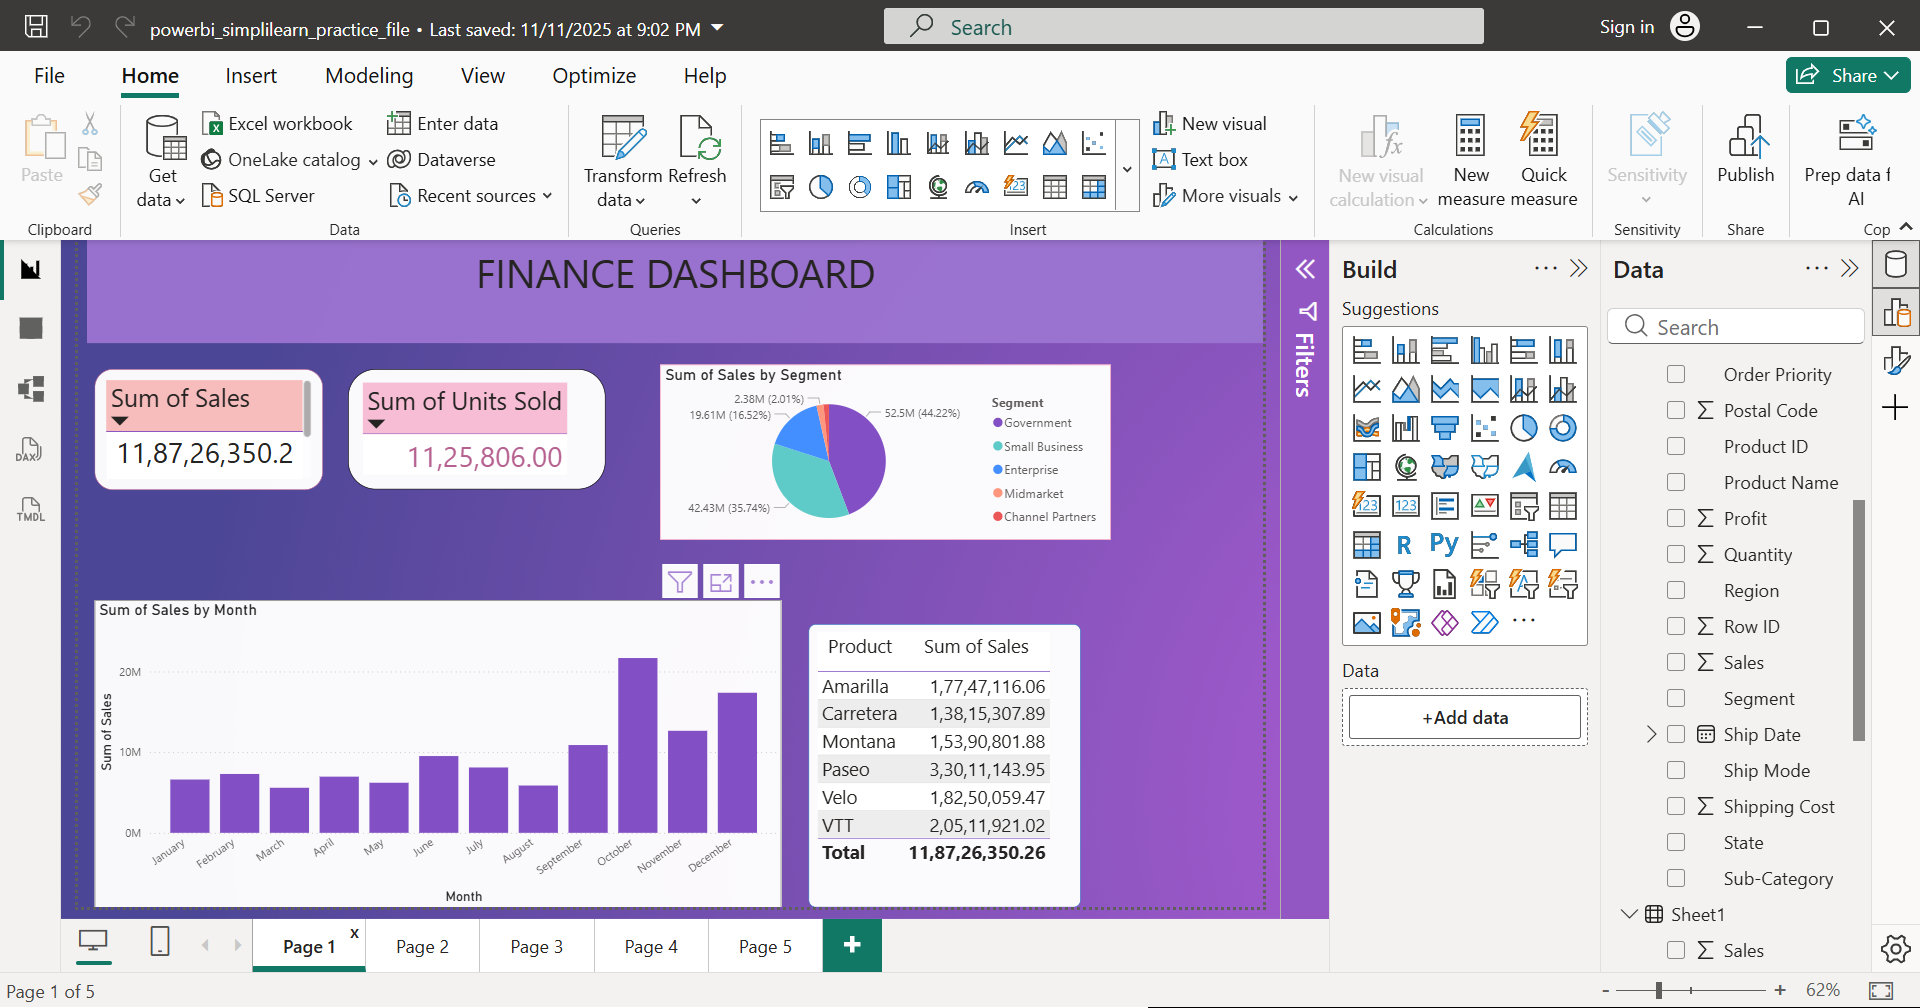

This screenshot's page, from the dashboard's own definition file:
{"tool":"powerbi","page":{"name":"Page 1","canvas":[1280,720],"ordinal":0},"visuals":[{"type":"textbox","box":[9.9,0,1270.8,111.2],"z":0},{"type":"tableEx","fields":{"Values":["Sum(Sheet1. Sales)"]},"box":[17.5,140,246.5,130.4],"z":1000},{"type":"tableEx","fields":{"Values":["Sum(Sheet1.Units Sold)"]},"box":[292,140,278,130],"z":2000},{"type":"clusteredColumnChart","fields":{"Y":["Sum(Sheet1. Sales)"],"Category":["Sheet1.Date.Variation.Date Hierarchy.Month"]},"box":[18,388,742,332],"z":3000},{"type":"pieChart","fields":{"Category":["Sheet1.Segment"],"Y":["Sum(Sheet1. Sales)"]},"box":[628.3,135.2,486.7,189.3],"z":4000},{"type":"tableEx","fields":{"Values":["Sheet1.Product","Sum(Sheet1. Sales)"]},"box":[788,414,294,306],"z":5000}]}

Visuals, with their boxes on the page's 1280x720 design canvas (x1, y1, x2, y2). These are canvas units, not pixel positions in the 1920x1008 screenshot, which may show the page scaled, cropped or inside an application window:
textbox: (x1=10, y1=0, x2=1281, y2=111)
tableEx - Sum(Sheet1. Sales): (x1=18, y1=140, x2=264, y2=270)
tableEx - Sum(Sheet1.Units Sold): (x1=292, y1=140, x2=570, y2=270)
clusteredColumnChart - Sum(Sheet1. Sales) x Sheet1.Date.Variation.Date Hierarchy.Month: (x1=18, y1=388, x2=760, y2=720)
pieChart - Sheet1.Segment x Sum(Sheet1. Sales): (x1=628, y1=135, x2=1115, y2=324)
tableEx - Sheet1.Product x Sum(Sheet1. Sales): (x1=788, y1=414, x2=1082, y2=720)
